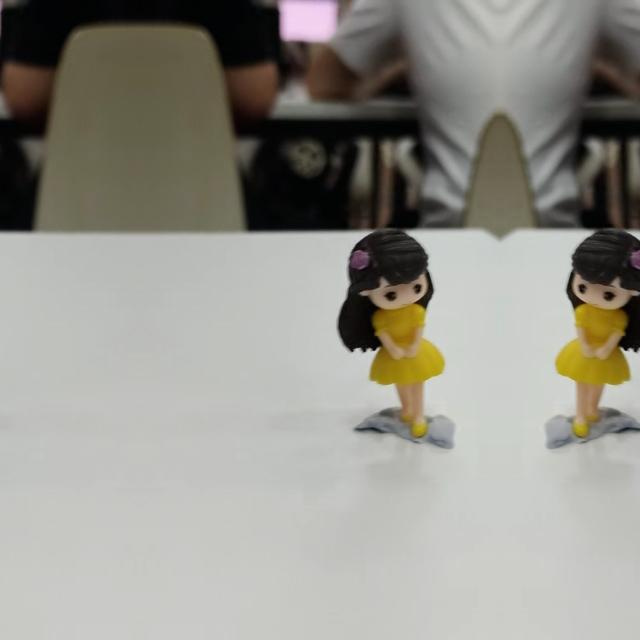woman head: (342, 226, 434, 312), (566, 226, 640, 311)
